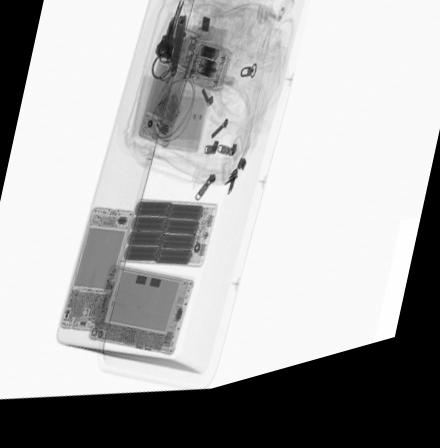Powerbank: (116, 204, 220, 279)
